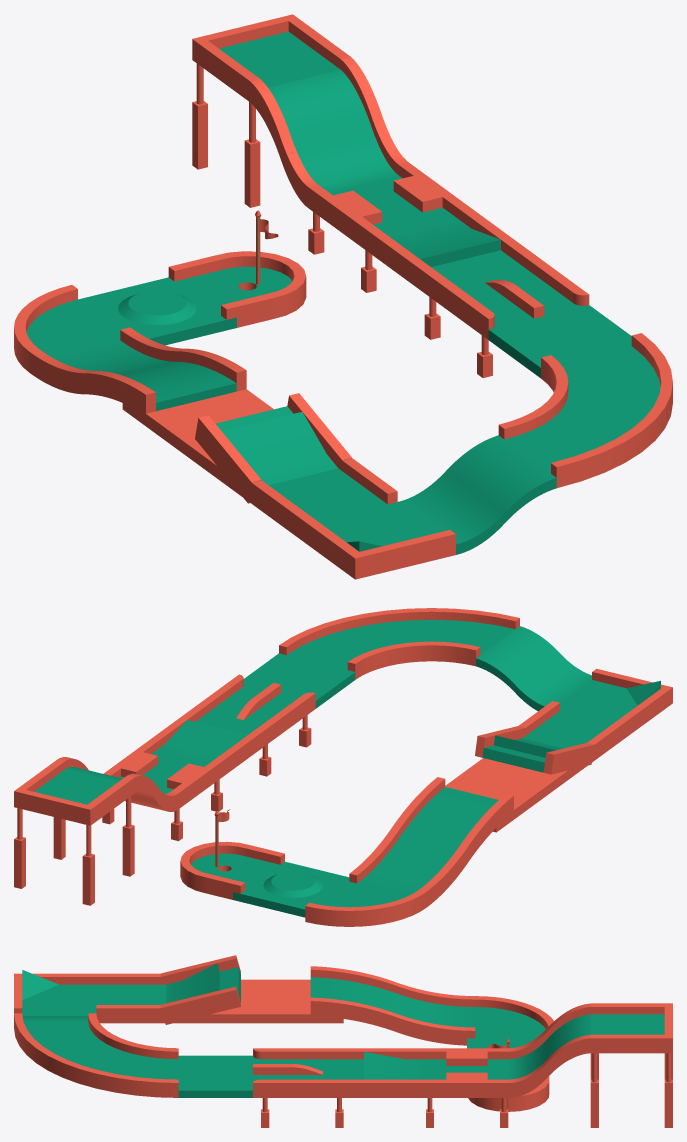
Rendered from Level4.fbx.
The picture shows the model from 3 angles, top to bottom: view 1: azimuth 30°, elevation 25°; view 2: azimuth 150°, elevation 25°; view 3: azimuth 270°, elevation 25°; orthographic projection. The views are drawn at different scales.
Parts seen in each view (by area): view 1: bend_large, straight_slope (×2), slope_smoothC, slope_smoothB_long, slope_center_smoothB, end, corner_hill, end_roundHole, straight_narrowSquare, straight_midEnd, corner_innerMid, straight (+4 smaller); view 2: bend_large, slope_smoothB_long, straight_slope (×2), slope_center_smoothB, end, detail_supports (×3), corner_hill, end_roundHole, straight_midEnd, open_block (×2), bend_open, open_bump (+4 smaller); view 3: bend_large, slope_smoothB_long, straight_slope (×2), end, slope_smoothC, straight_midEnd, straight_narrowSquare, open_block (×2), straight, corner_innerMid, corner_hill, bend_open (+4 smaller).
Part boxes in pixels (bbox=[...]): bend_large: bbox=[498, 333, 672, 487]; straight_slope (×2): bbox=[195, 205, 525, 503]; slope_smoothC: bbox=[250, 57, 408, 207]; slope_smoothB_long: bbox=[29, 327, 246, 414]; slope_center_smoothB: bbox=[398, 435, 556, 554]; end: bbox=[192, 14, 350, 101]; corner_hill: bbox=[297, 502, 455, 579]; end_roundHole: bbox=[168, 251, 306, 327]; straight_narrowSquare: bbox=[308, 163, 466, 250]; straight_midEnd: bbox=[424, 248, 583, 335]; corner_innerMid: bbox=[483, 290, 631, 378]; straight: bbox=[239, 453, 397, 536]; bend_large: bbox=[279, 608, 519, 679]; slope_smoothB_long: bbox=[349, 777, 513, 907]; straight_slope (×2): bbox=[147, 710, 593, 776]; slope_center_smoothB: bbox=[476, 626, 591, 711]; end: bbox=[14, 759, 134, 825]; detail_supports (×3): bbox=[14, 715, 311, 905]; corner_hill: bbox=[560, 668, 672, 735]; end_roundHole: bbox=[180, 841, 284, 899]; straight_midEnd: bbox=[191, 677, 311, 744]; open_block (×2): bbox=[445, 758, 584, 832]; bend_open: bbox=[305, 881, 425, 926]; open_bump: bbox=[233, 861, 349, 917]; bend_large: bbox=[14, 1013, 178, 1097]; slope_smoothB_long: bbox=[310, 966, 475, 1045]; straight_slope (×2): bbox=[160, 955, 425, 1097]; end: bbox=[590, 1003, 672, 1053]; slope_smoothC: bbox=[508, 1003, 590, 1097]; straight_midEnd: bbox=[261, 1048, 343, 1097]; straight_narrowSquare: bbox=[426, 1048, 508, 1097]; open_block (×2): bbox=[178, 979, 343, 1023]; straight: bbox=[96, 973, 178, 1023]; corner_innerMid: bbox=[178, 1048, 260, 1097]; corner_hill: bbox=[14, 970, 96, 1015]; bend_open: bbox=[475, 996, 553, 1038].
Size of the model in its own units: 40 by 15 by 80.
